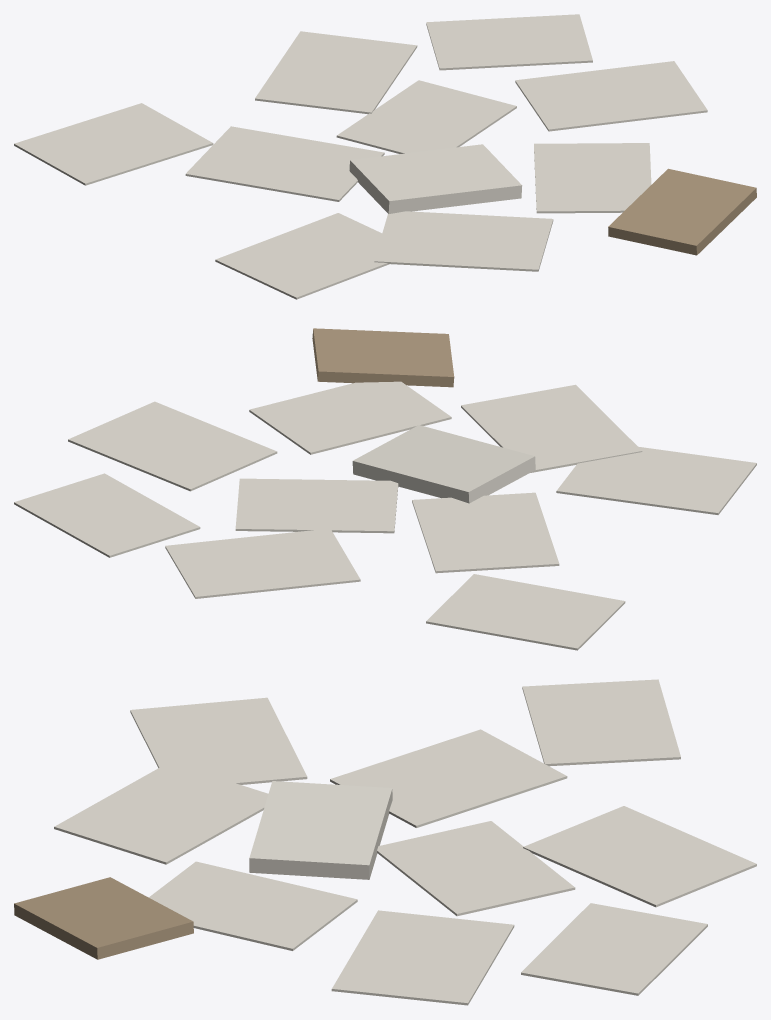
File: Dress_PapersScatter.fbx
The picture shows the model from 3 angles, top to bottom: view 1: azimuth 30°, elevation 25°; view 2: azimuth 150°, elevation 25°; view 3: azimuth 270°, elevation 25°; orthographic projection. The views are drawn at different scales.
Visible parts, largest first — view 1: Dress_PapersScatter; view 2: Dress_PapersScatter; view 3: Dress_PapersScatter.
Part boxes in pixels (left/top/right/bottom): Dress_PapersScatter: left=14, top=14, right=756, bottom=299; Dress_PapersScatter: left=14, top=328, right=756, bottom=650; Dress_PapersScatter: left=14, top=679, right=756, bottom=1005.
Bounding box in the file's own units: 121 × 4.11 × 116.
